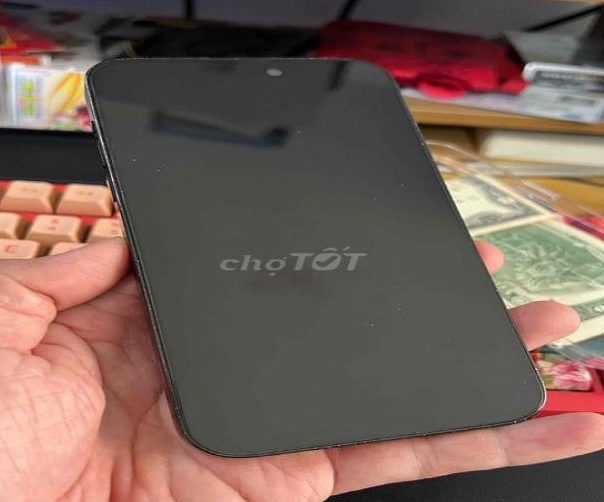scratch: (209, 422, 516, 457), (86, 108, 151, 251), (96, 55, 357, 68), (395, 173, 408, 192), (286, 126, 301, 140)
